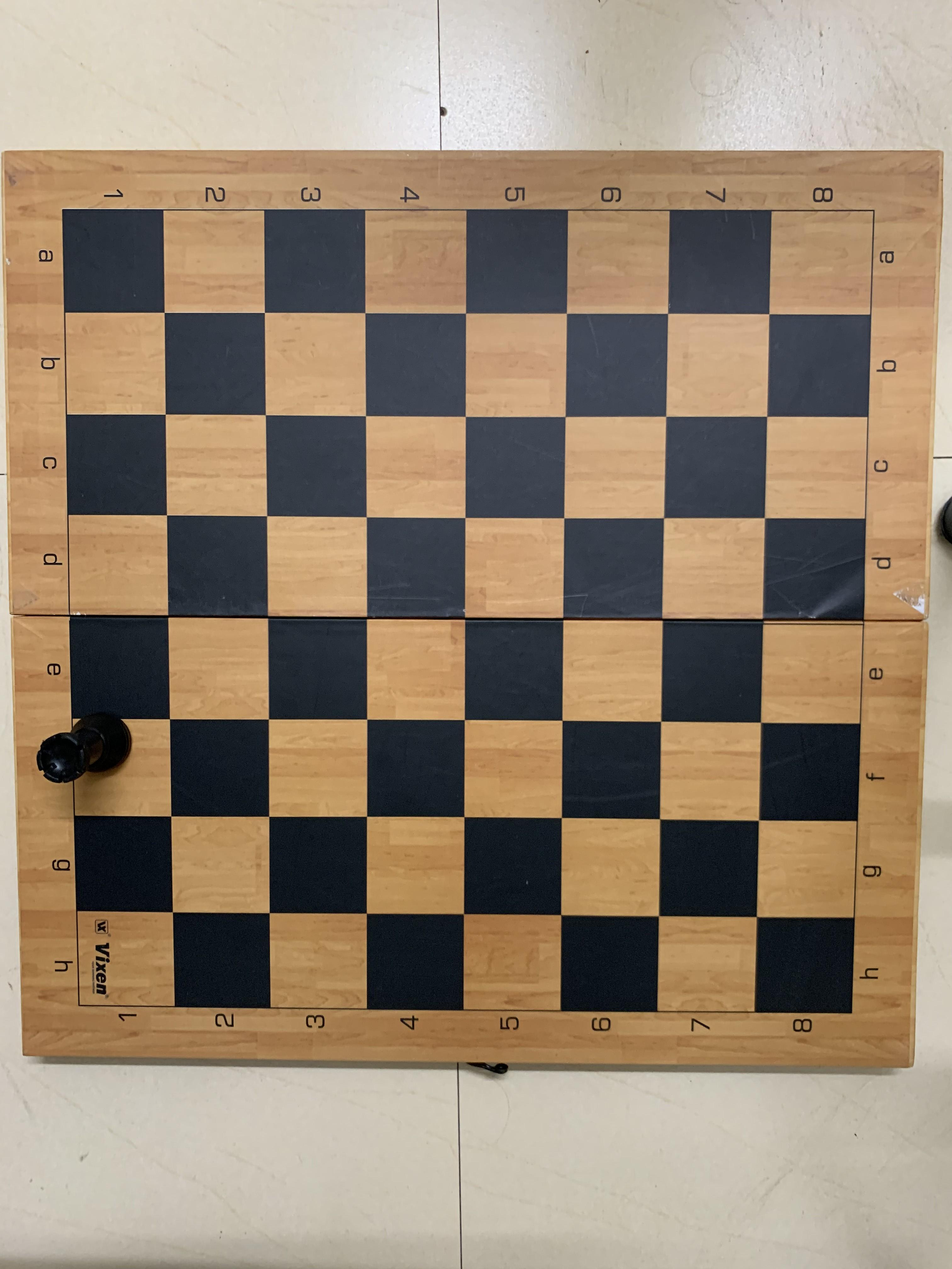black_rook: (33, 711, 172, 804)
